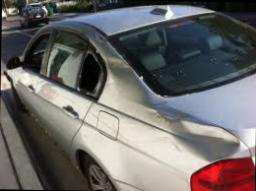Fender: (75, 30, 251, 191)
